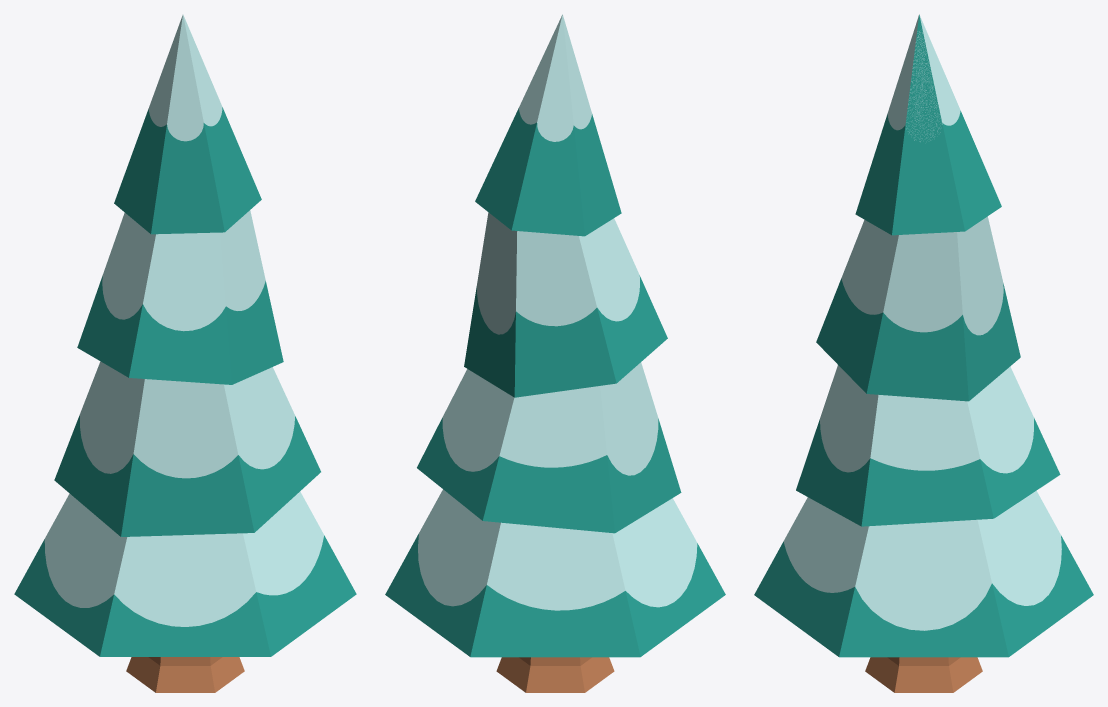
Rendered from treePineSnowRound.dae.
3 renders of one model, left to right at view 1: azimuth 30°, elevation 25°; view 2: azimuth 150°, elevation 25°; view 3: azimuth 270°, elevation 25°, orthographic.
Parts seen in each view (by area): view 1: treePineSnowRound; view 2: treePineSnowRound; view 3: treePineSnowRound.
Part boxes in pixels (<box>): treePineSnowRound: <box>14,14,356,692</box>; treePineSnowRound: <box>385,14,725,692</box>; treePineSnowRound: <box>754,14,1093,692</box>.
Size of the model in its own units: 0.651 by 1.6 by 0.7517.
